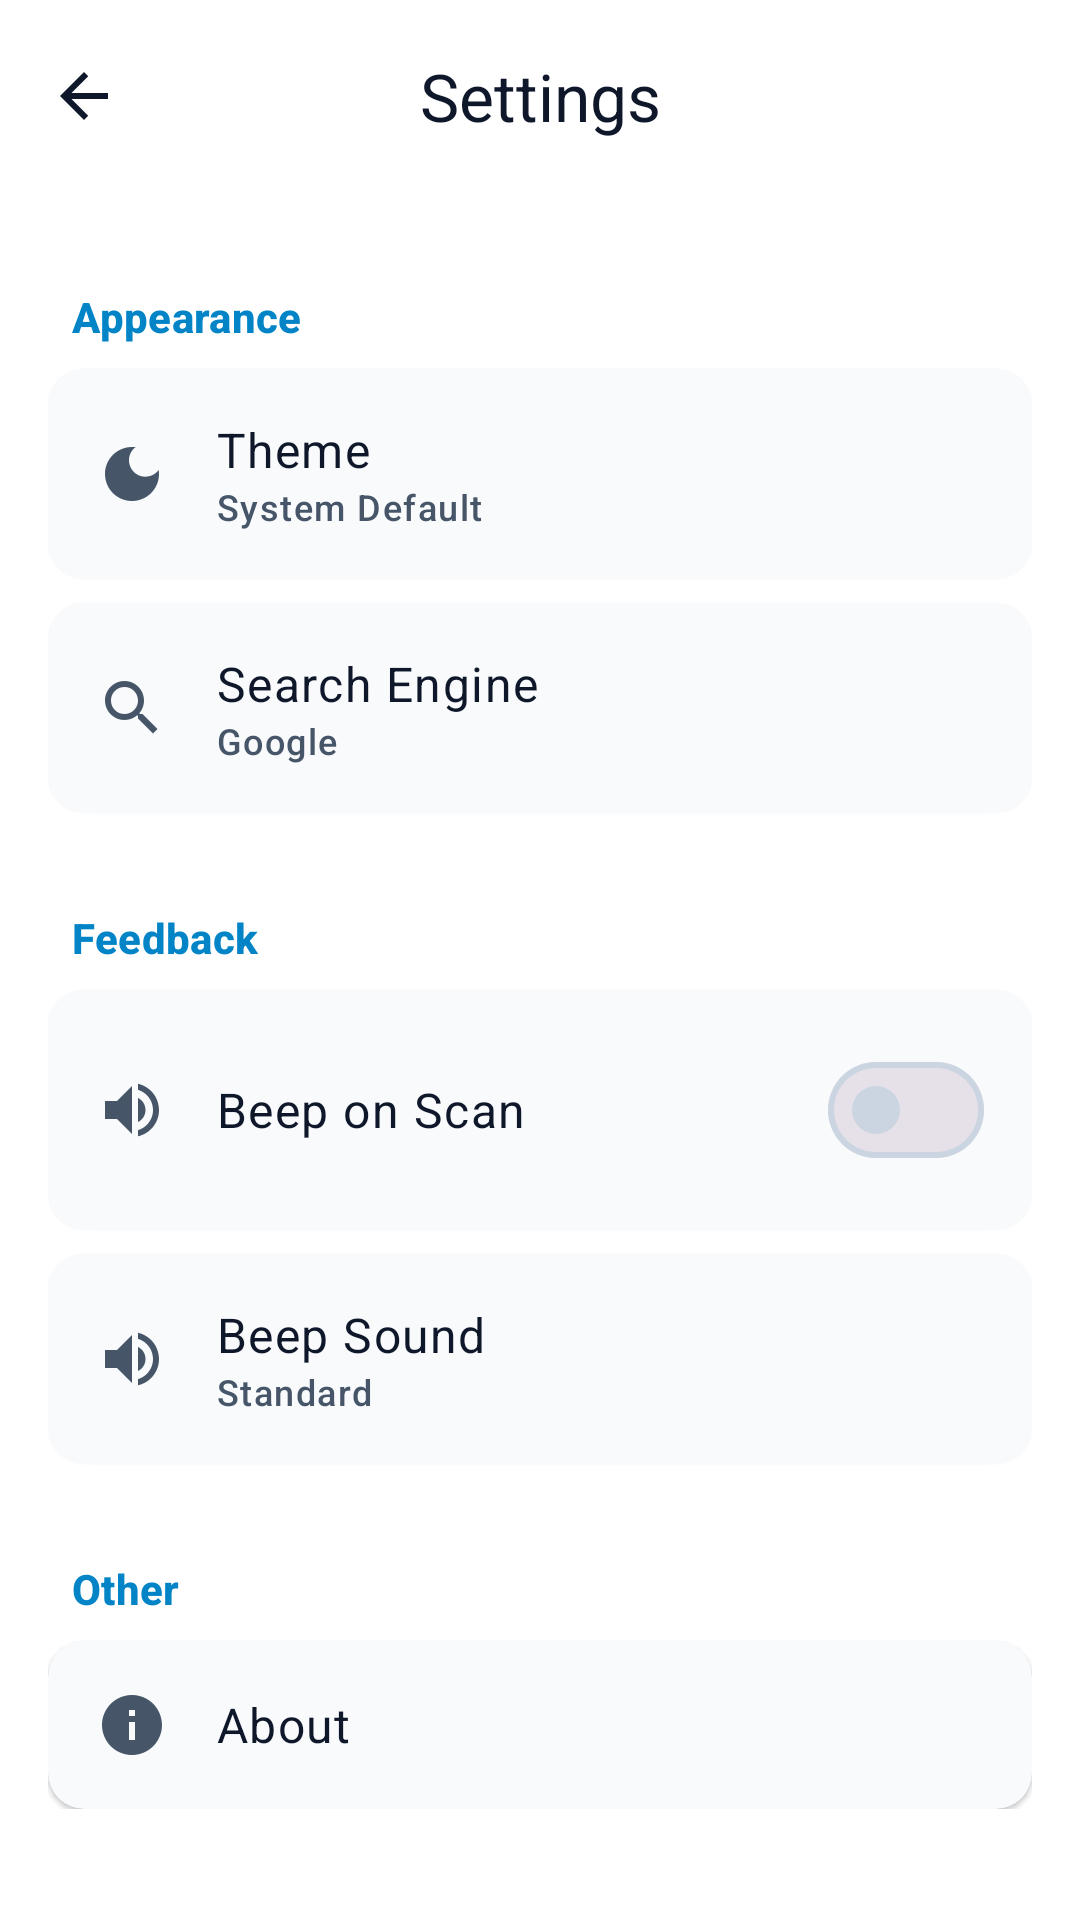

Locate icon controls on the screen. Image size 1080w x 1920h, boxes as [left=x1, top=y1, right=x2, bottom=y2].
info: [left=102, top=1695, right=162, bottom=1755]
volume up: [left=105, top=1084, right=159, bottom=1137], [left=105, top=1333, right=159, bottom=1386]
